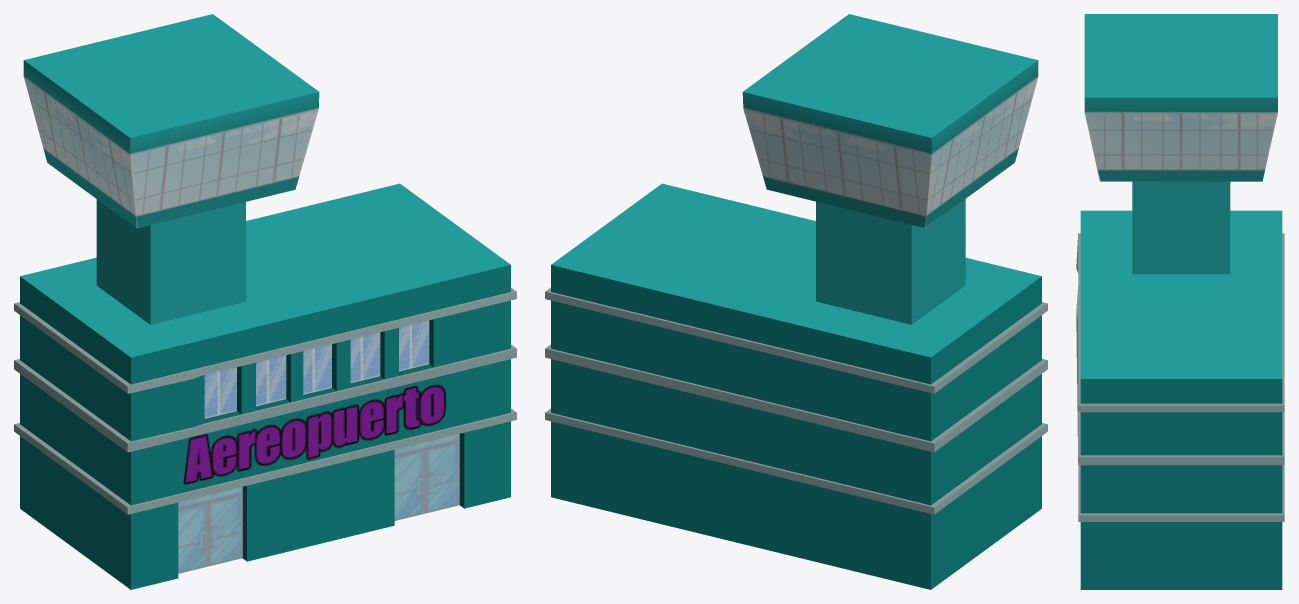
The model's file is aereopuerto.fbx.
The picture shows the model from 3 angles, left to right: view 1: azimuth 30°, elevation 25°; view 2: azimuth 150°, elevation 25°; view 3: azimuth 270°, elevation 25°; orthographic projection. The views are drawn at different scales.
Parts seen in each view (by area): view 1: pCube8; view 2: pCube8; view 3: pCube8.
Part boxes in pixels (<box>): pCube8: <box>14,14,516,589</box>; pCube8: <box>545,14,1047,589</box>; pCube8: <box>1076,14,1284,589</box>.
Size of the model in its own units: 164 by 181 by 83.61.
Materials: 1 (1 with a texture image).
